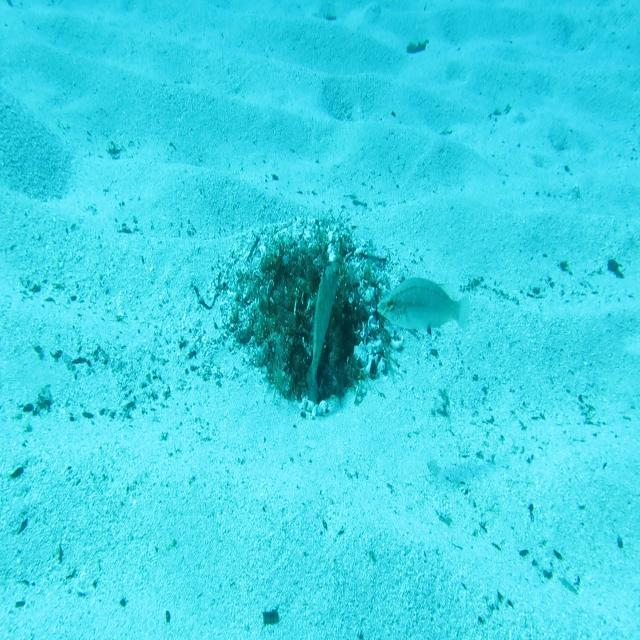FAN: (305, 258, 341, 406)
core_nest: (279, 252, 326, 291)
female: (376, 273, 472, 339)
nest: (215, 200, 412, 431)
vegetation: (605, 257, 626, 282), (406, 38, 429, 58), (262, 606, 280, 626)
